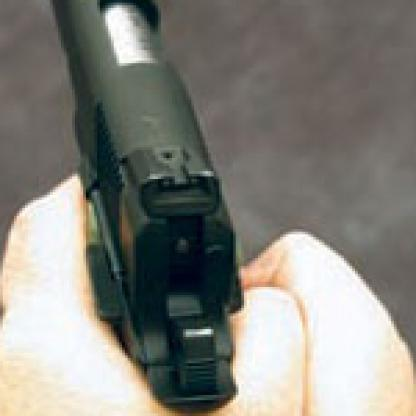gun: (2, 0, 245, 414)
